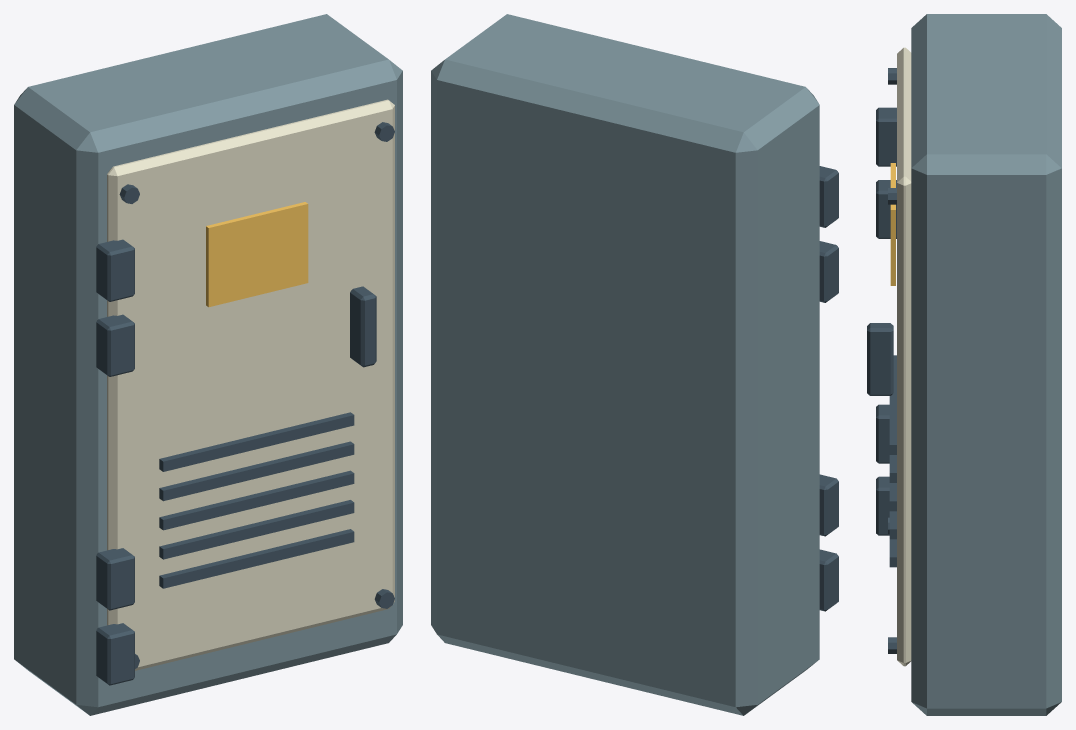
The model's file is service_cabinet.glb.
The picture shows the model from 3 angles, left to right: view 1: azimuth 30°, elevation 25°; view 2: azimuth 150°, elevation 25°; view 3: azimuth 270°, elevation 25°; orthographic projection. The views are drawn at different scales.
Visible parts, largest first — view 1: service_cabinet; view 2: service_cabinet; view 3: service_cabinet.
Part boxes in pixels (x1,y1,x2,y2): service_cabinet: [14, 14, 402, 715]; service_cabinet: [431, 14, 838, 715]; service_cabinet: [867, 14, 1061, 715].
Size of the model in its own units: 0.82 by 1.4 by 0.44.
